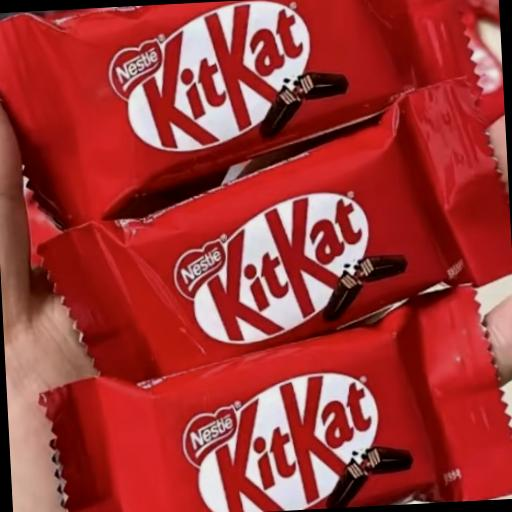kitkat: (5, 341, 512, 512)
